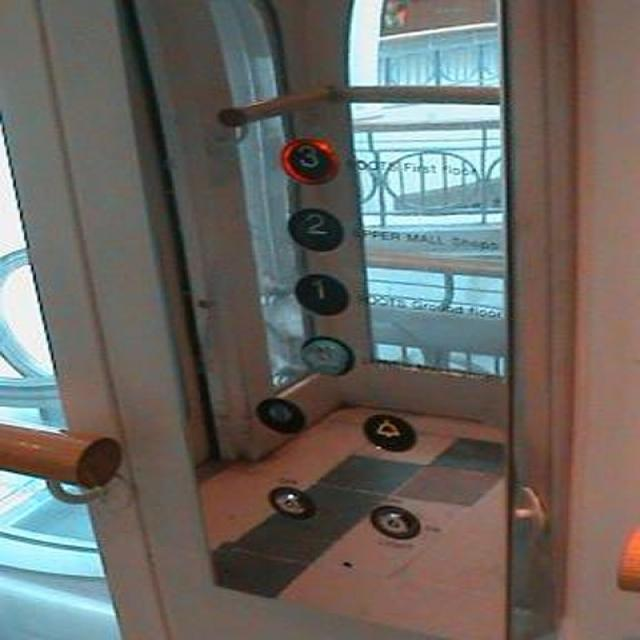1: (290, 269, 354, 318)
2: (281, 203, 347, 253)
3: (276, 134, 341, 187)
alarm: (358, 406, 422, 455)
blur: (294, 329, 358, 378)
keyhole: (262, 480, 318, 521), (364, 500, 420, 541)
open: (247, 388, 310, 437)
